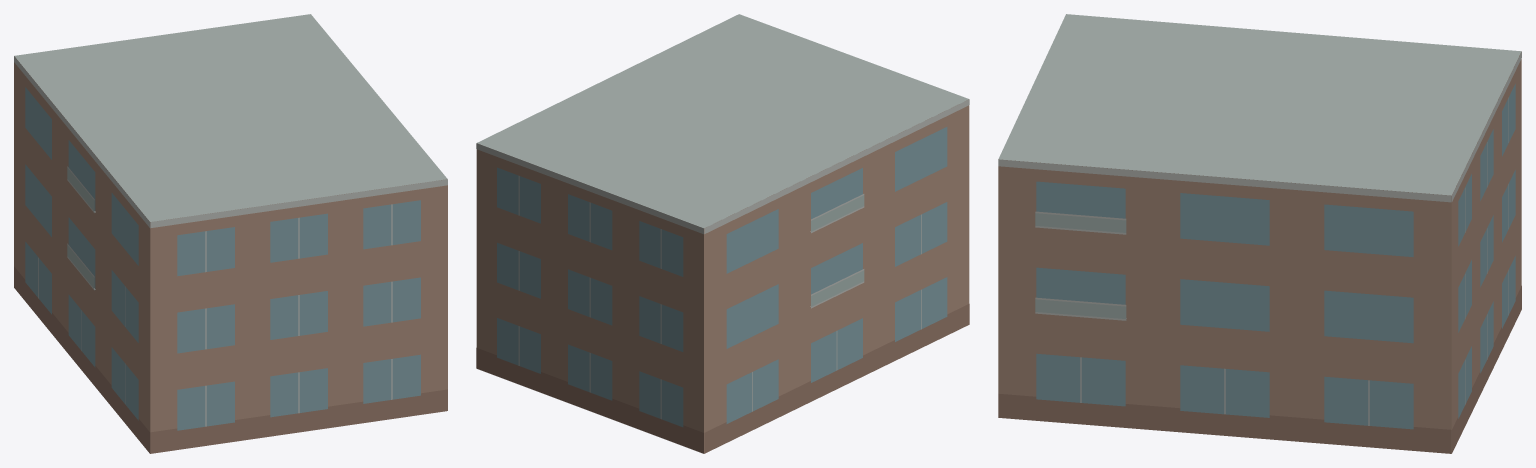
The model's file is survey-upis-32541043.glb.
The picture shows the model from 3 angles, left to right: view 1: azimuth 30°, elevation 25°; view 2: azimuth 150°, elevation 25°; view 3: azimuth 270°, elevation 25°; orthographic projection. The views are drawn at different scales.
Visible parts, largest first — view 1: survey-upis-32541043.tmp; view 2: survey-upis-32541043.tmp; view 3: survey-upis-32541043.tmp.
Part boxes in pixels (x1,y1,x2,y2): survey-upis-32541043.tmp: [14, 14, 447, 453]; survey-upis-32541043.tmp: [476, 14, 969, 453]; survey-upis-32541043.tmp: [998, 14, 1521, 453].
Size of the model in its own units: 13.8 by 9.15 by 16.81.
